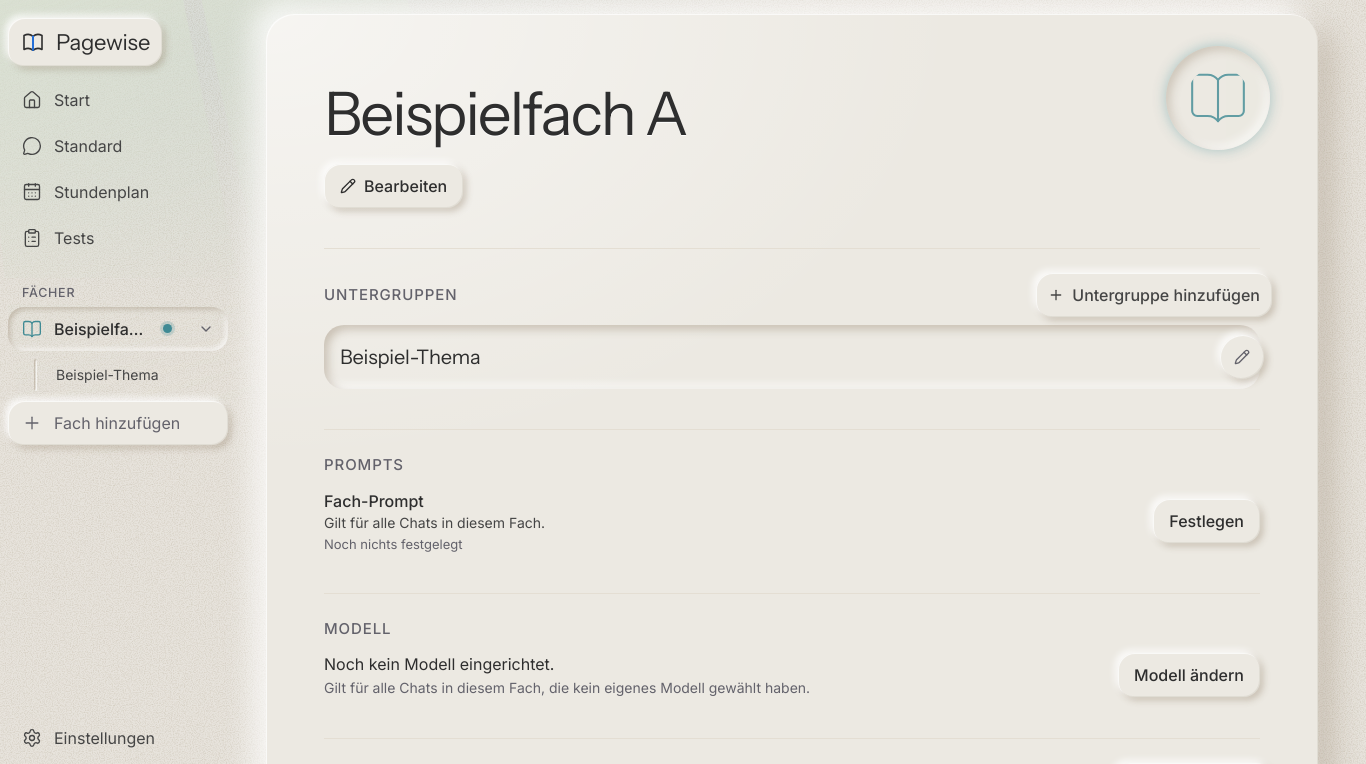
Test: Prompts je Ebene › zeigt Fehler des Servers beim Speichern
Step 1. Click the button with aria-label "Fach-Prompt: Festlegen" → (1207, 521), box [1153, 499, 1260, 543]
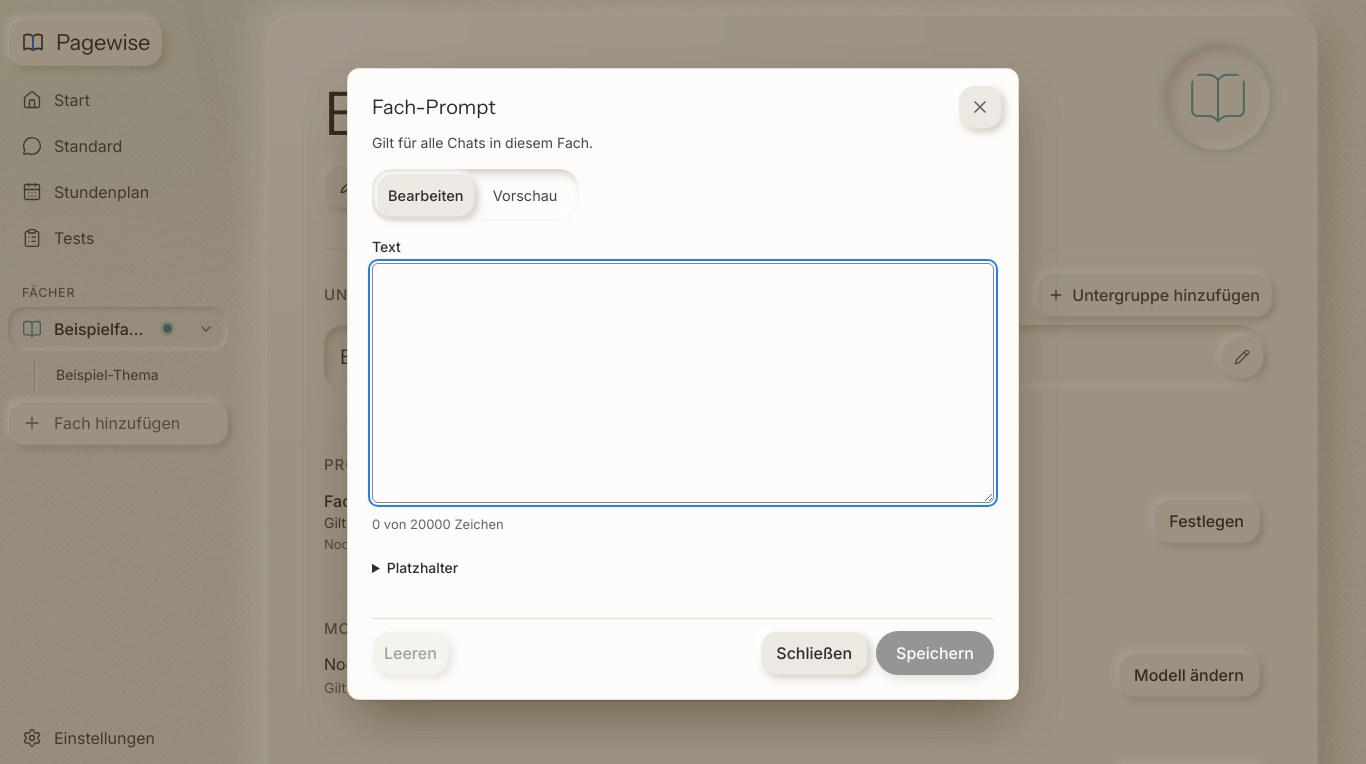
Step 2. Type "Text" into the text box labelled "Text" → (683, 383), box [372, 263, 994, 503]
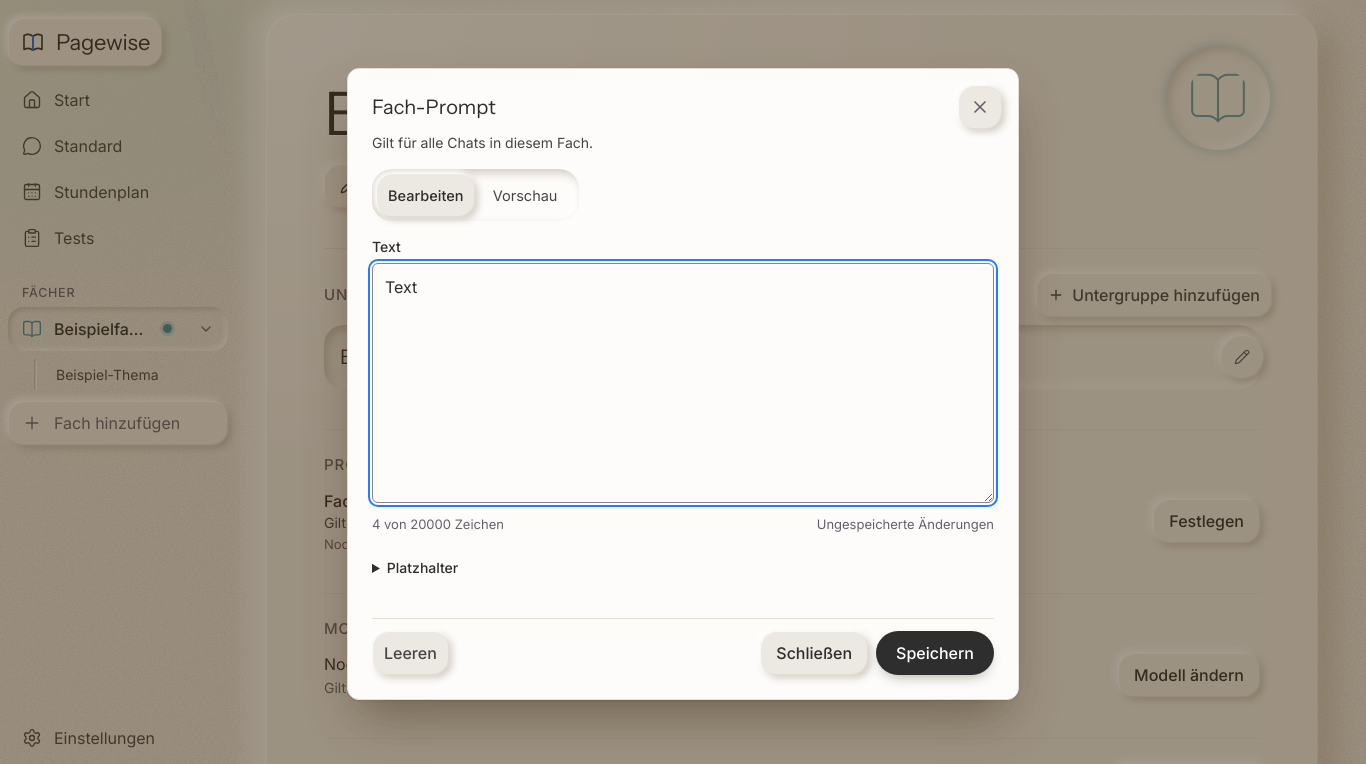
Step 3. Click the button "Speichern" → (935, 653), box [876, 631, 994, 675]
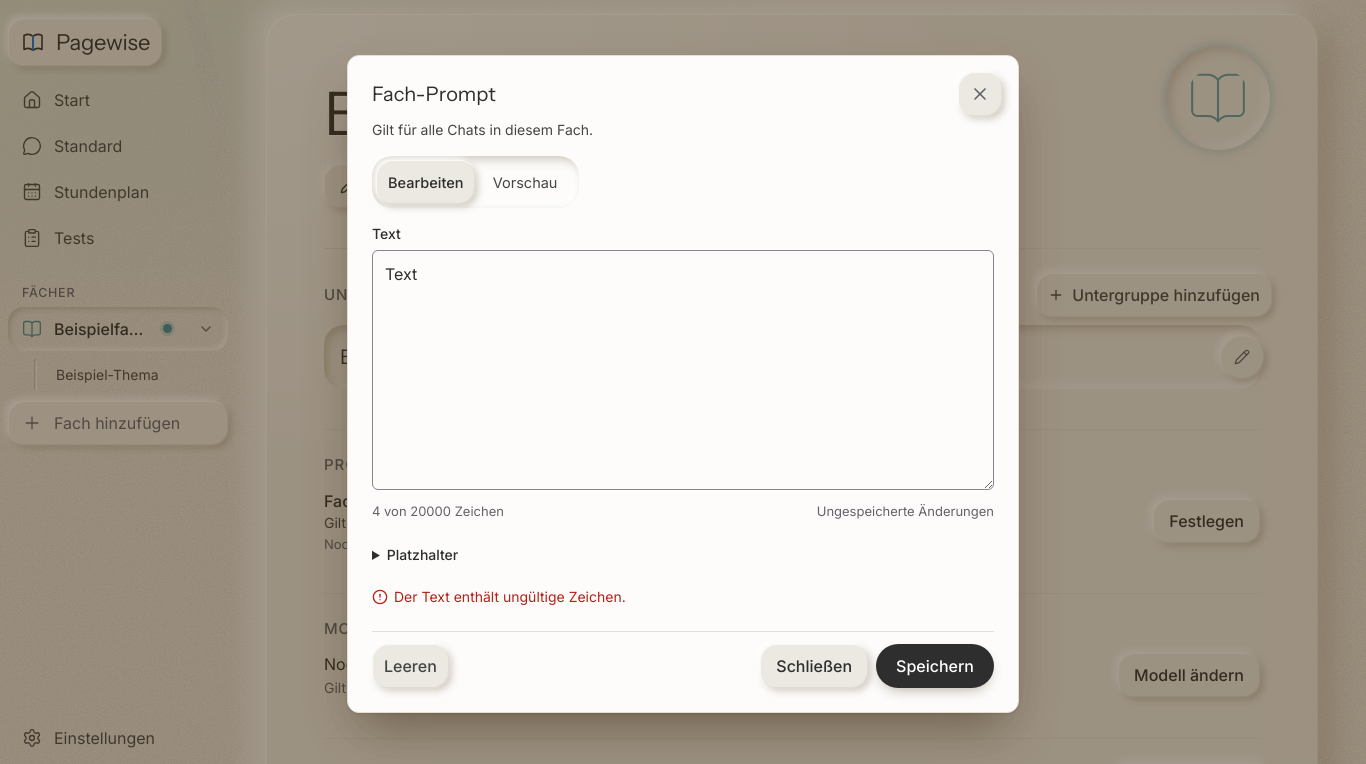
Expected: the text "Der Text enthält ungültige Zeichen." is shown, [394, 587, 626, 607]
